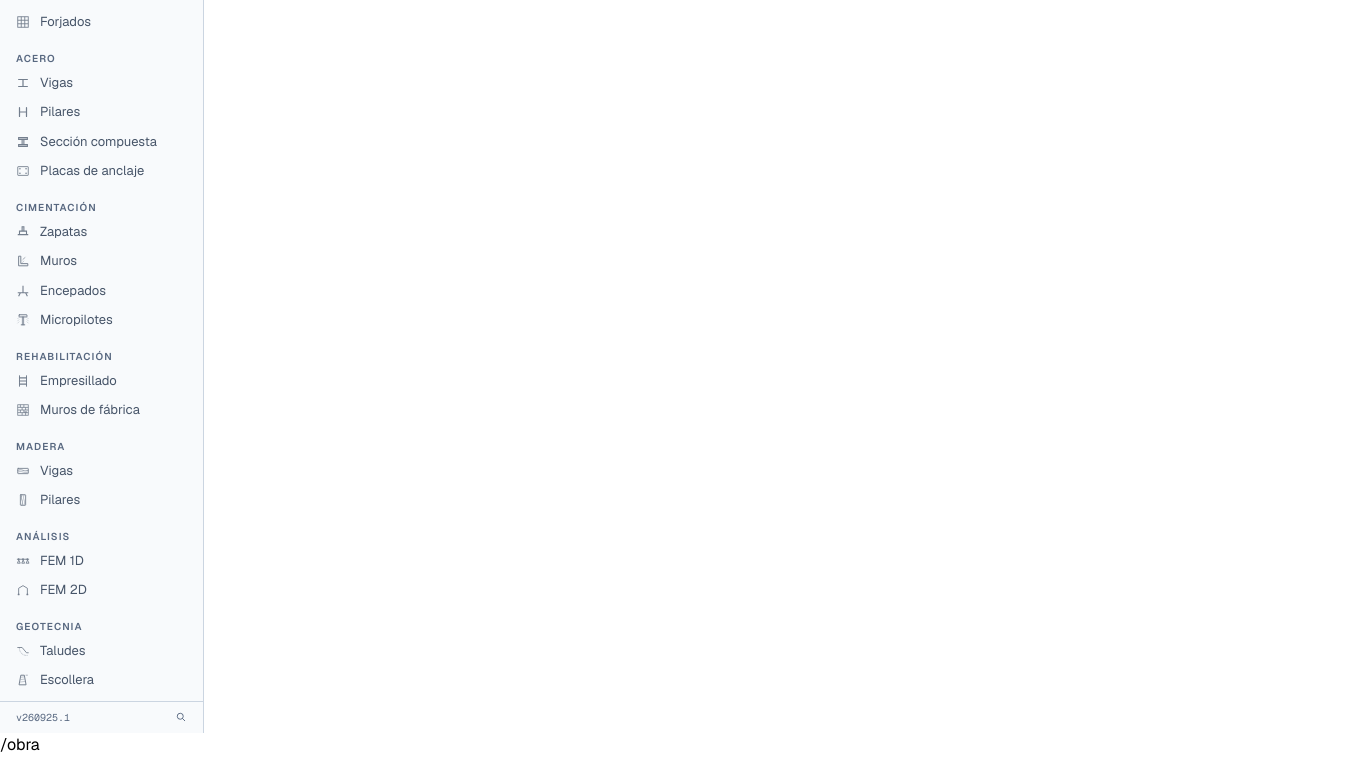
Scenario: la lupa de la barra lateral › abre el buscador, escribe, e Intro lleva al módulo y cierra el cajón
(page scrolled)
Click the button named "Buscar un módulo" at point(181, 717), box 169,705 -> 193,729
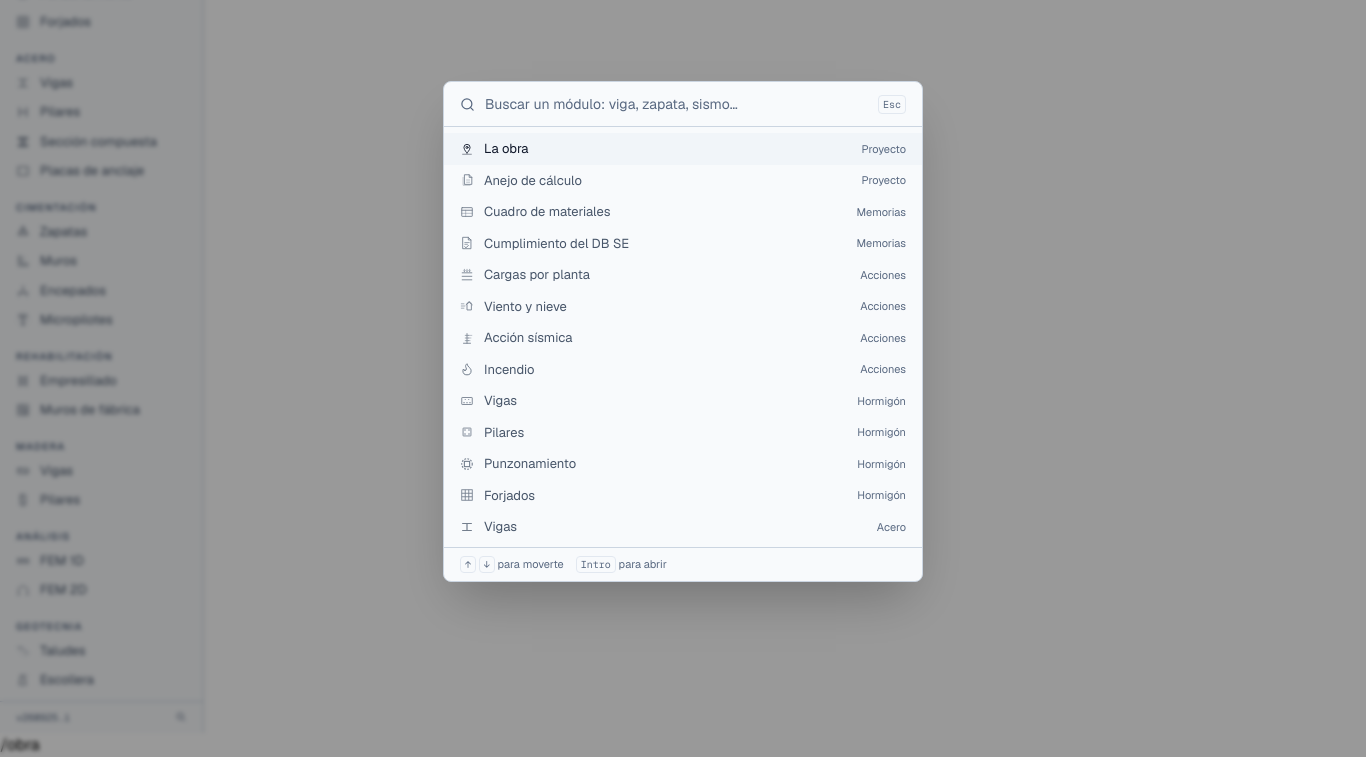
Type "placas" into the dropdown labelled "Buscar un módulo" at point(676, 104), box 485,82 -> 868,126
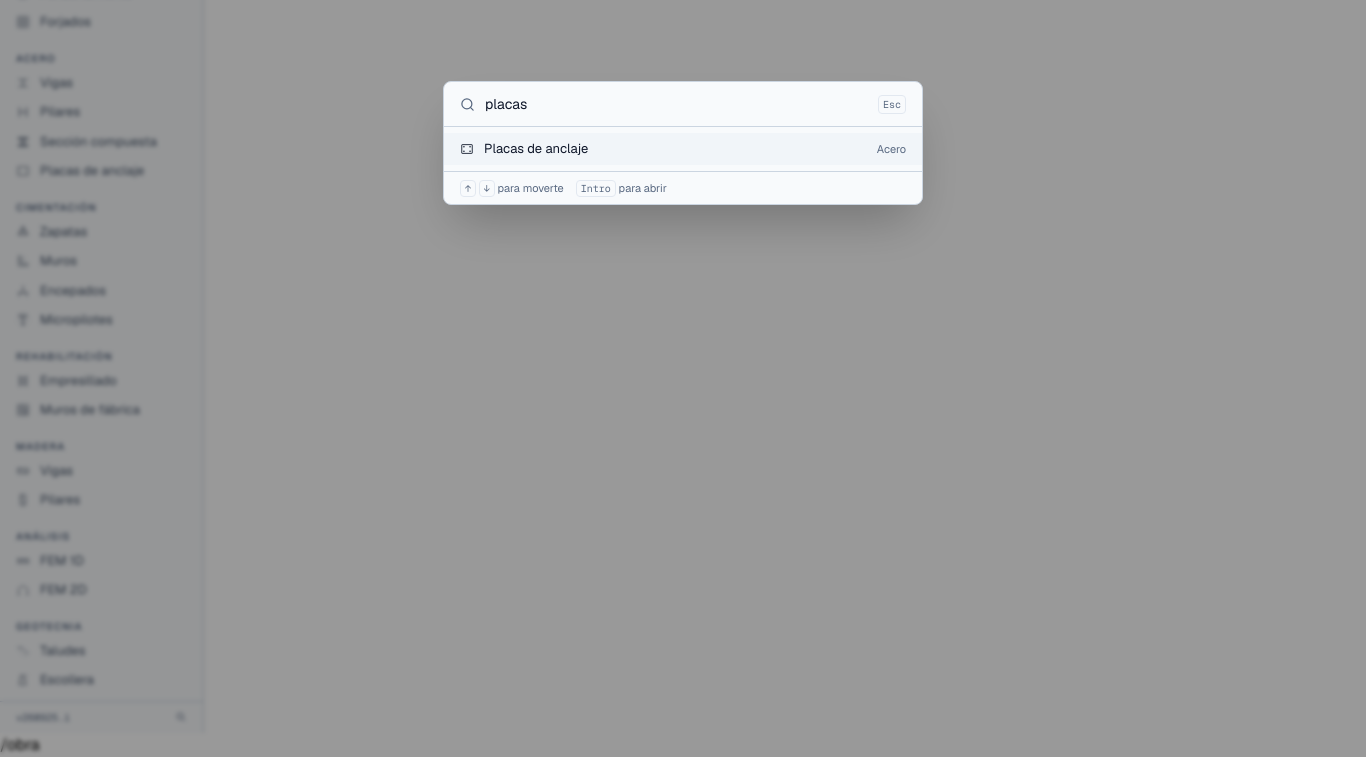
Check: the option shows "Placas de anclaje", box 444,133 -> 922,165
Press Enter
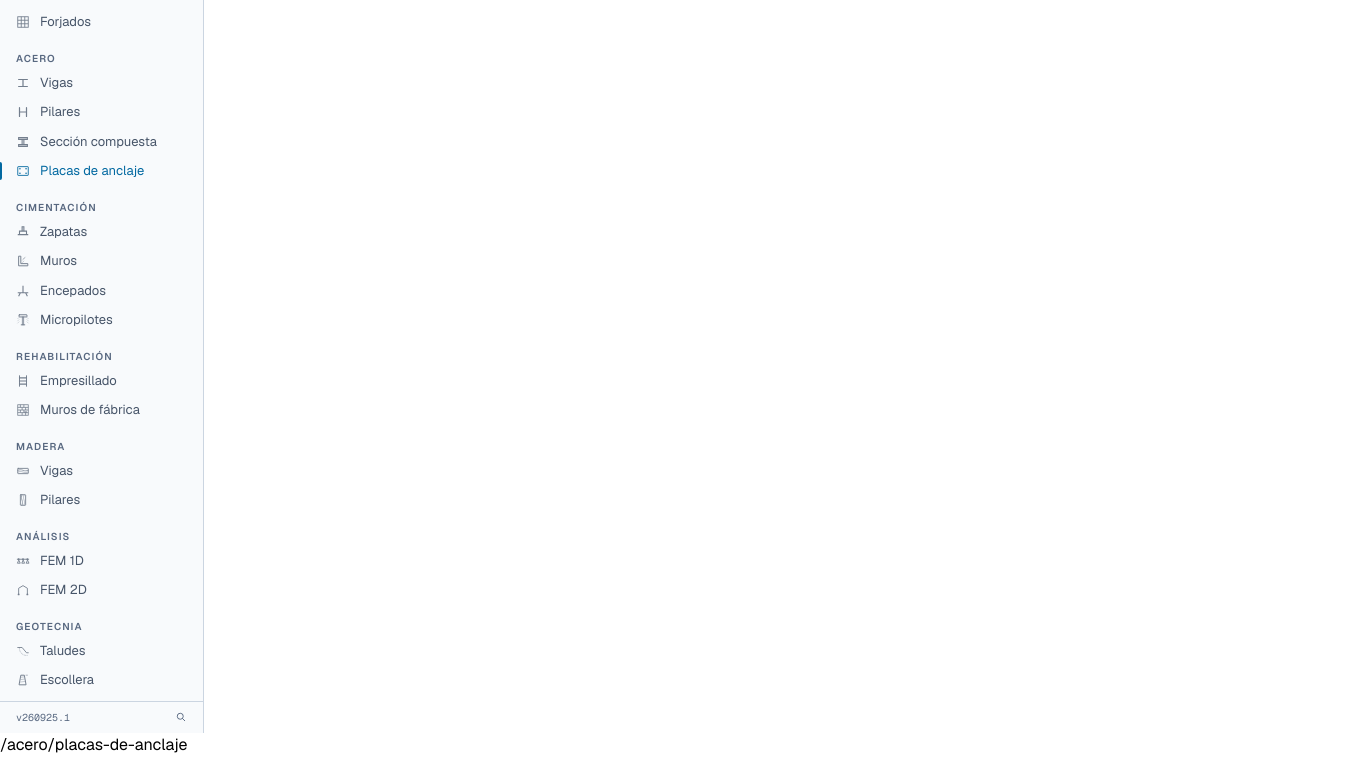
Check: the text with test id "ruta" reads "/acero/placas-de-anclaje", box 0,734 -> 187,755
Check: the dialog is gone
